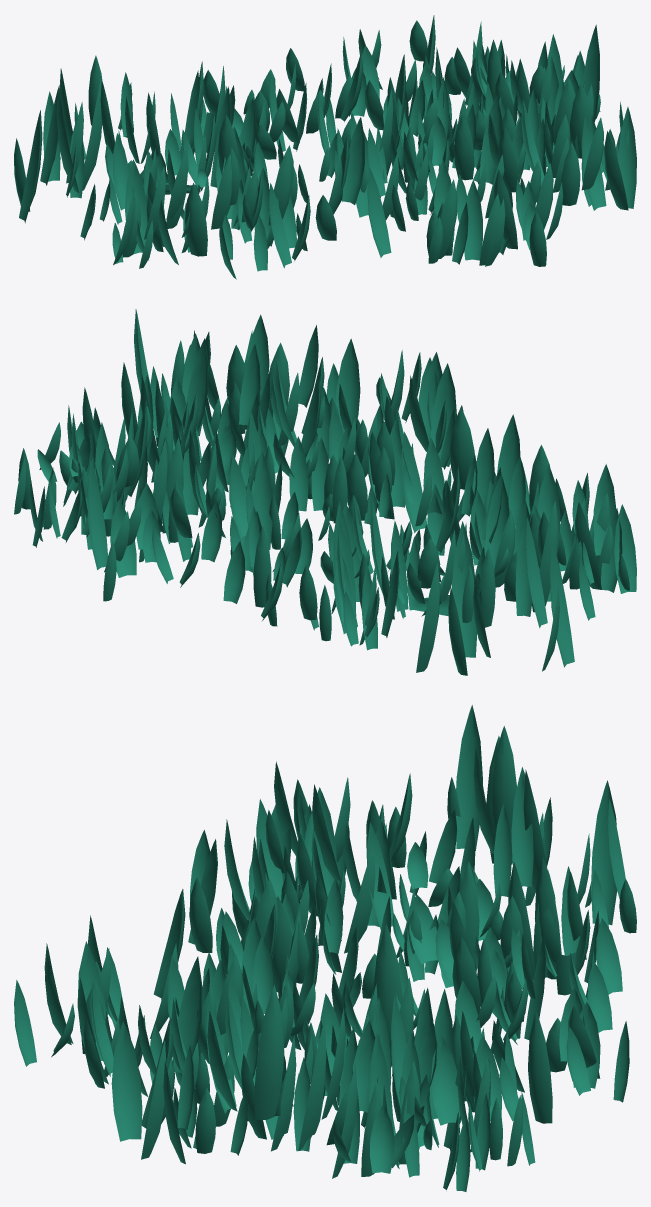
File: grass.fbx
The picture shows the model from 3 angles, top to bottom: view 1: azimuth 30°, elevation 25°; view 2: azimuth 150°, elevation 25°; view 3: azimuth 270°, elevation 25°; orthographic projection. The views are drawn at different scales.
Parts seen in each view (by area): view 1: SM_grass.001; view 2: SM_grass.001; view 3: SM_grass.001.
Part boxes in pixels (left/top/right/bottom): SM_grass.001: left=14, top=15, right=636, bottom=279; SM_grass.001: left=14, top=309, right=636, bottom=675; SM_grass.001: left=14, top=705, right=636, bottom=1191.
Bounding box in the file's own units: 431 × 341 × 116.
